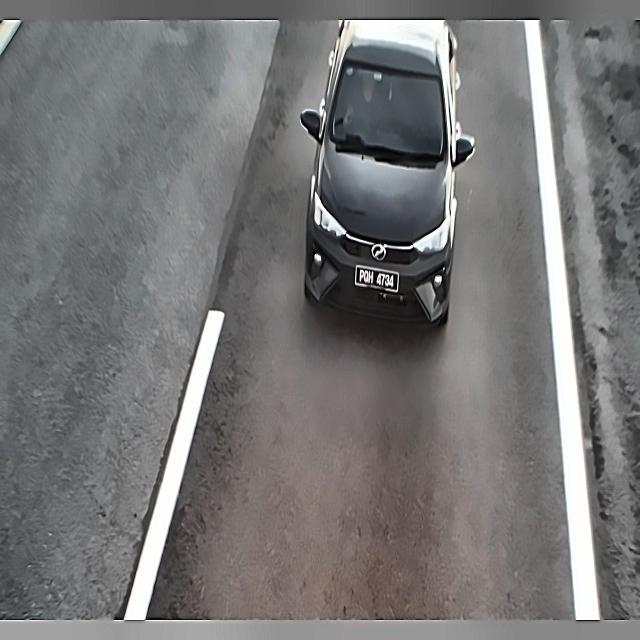car: (348, 257, 406, 301)
